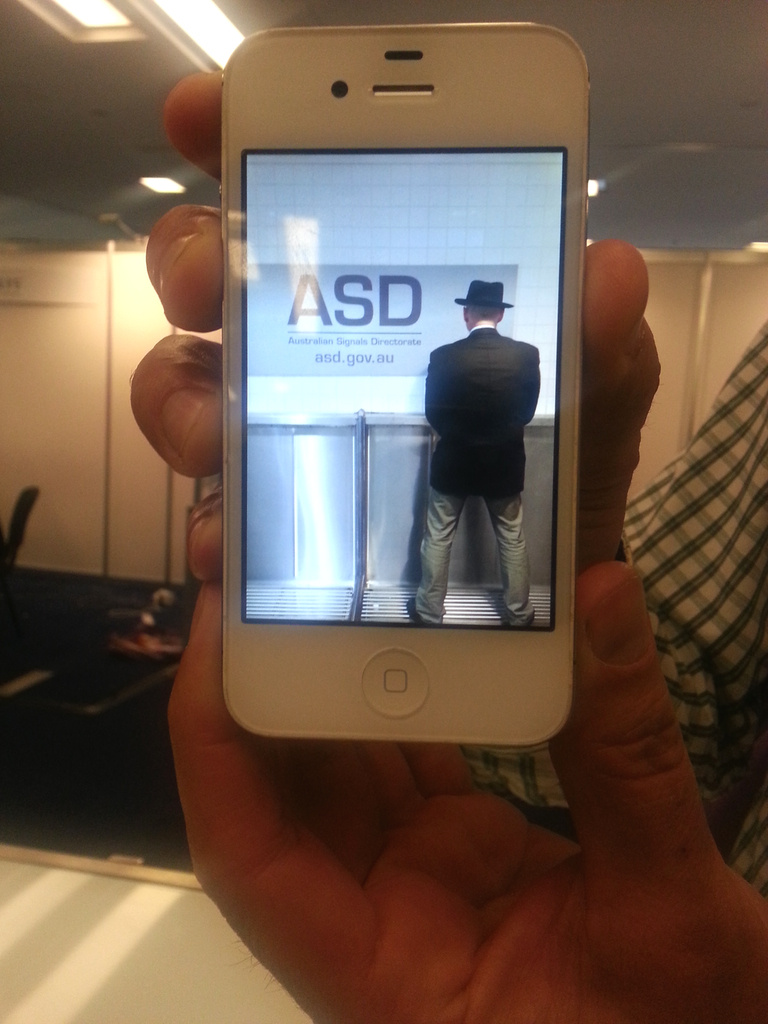Mobile-phone: (217, 27, 587, 756)
